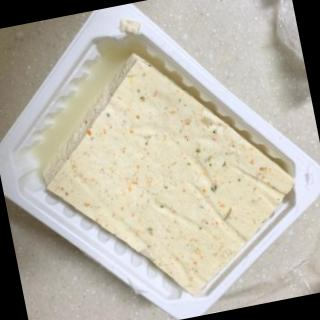Tahu: (46, 54, 294, 296)
